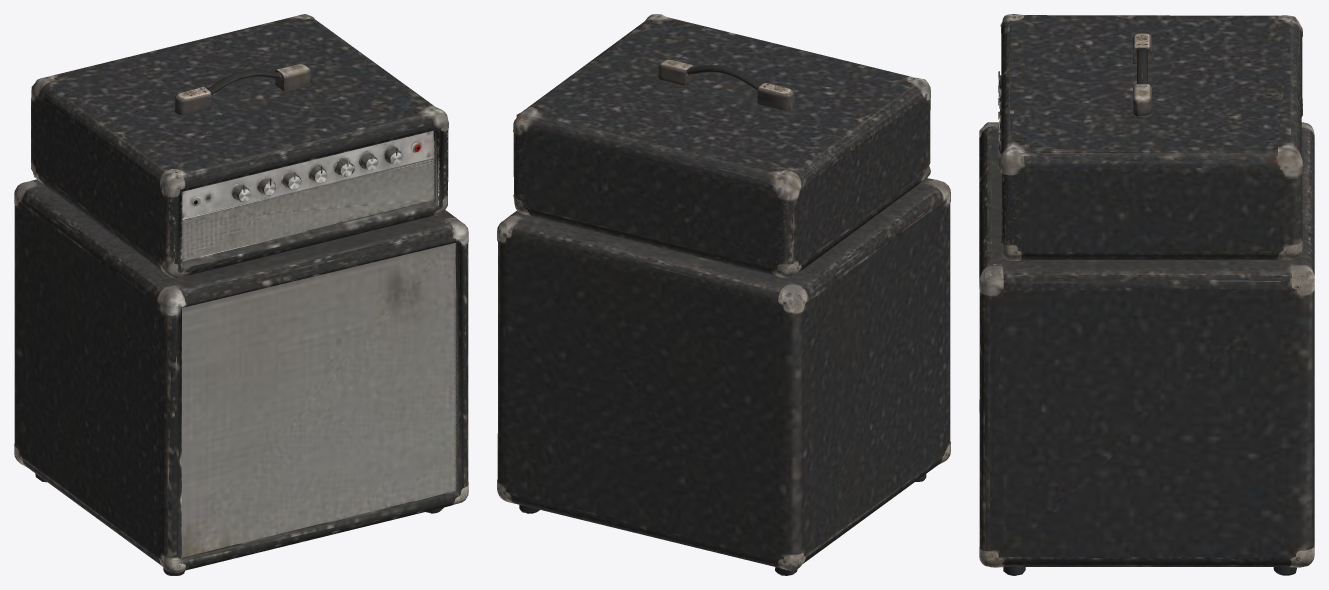
File: skyways-d-mu-amp.glb
3 views of the same model, side by side, from view 1: azimuth 30°, elevation 25°; view 2: azimuth 150°, elevation 25°; view 3: azimuth 270°, elevation 25° (orthographic). The views are drawn at different scales.
Visible parts, largest first — view 1: skyways-d-mu-amp; view 2: skyways-d-mu-amp; view 3: skyways-d-mu-amp.
Boxes of the visible parts, x1,y1,x2,y2 form: skyways-d-mu-amp: [14, 14, 468, 575]; skyways-d-mu-amp: [497, 14, 950, 575]; skyways-d-mu-amp: [979, 14, 1314, 575].
Bounding box in the file's own units: 0.975 × 1.3 × 0.8802.
1 material, 1 textured.
